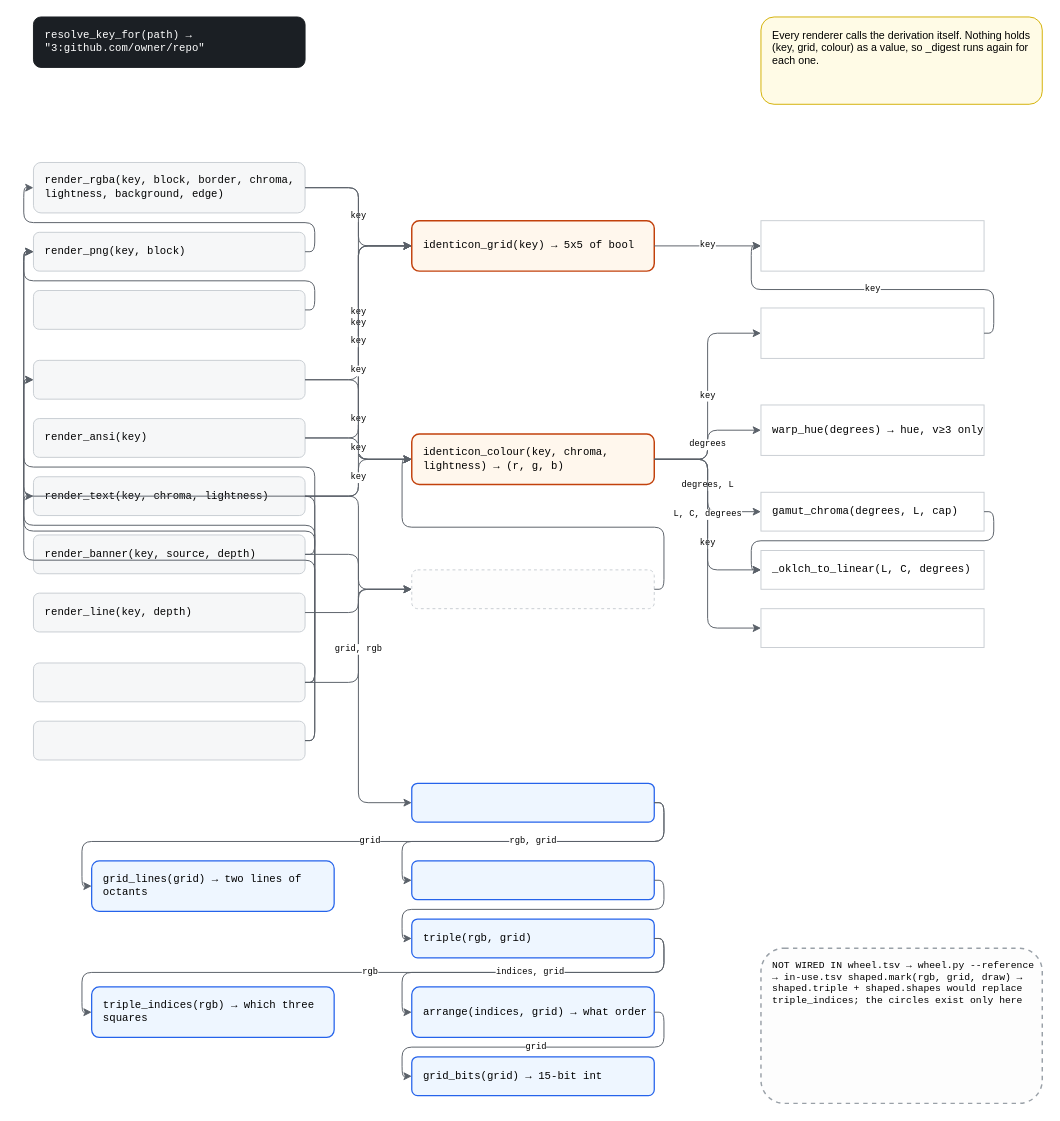
Image size: 1060x1121. Some labels were removed from this diagram. The centre of each missing label's shape, as x and y in pixels:
"_colour_for(key, kwargs)" belongs at (x=532, y=589).
"_digest(key) → 32 hex chars" belongs at (x=872, y=245).
"artifact_bytes(key, block)" belongs at (x=168, y=682).
"emoji_triple(rgb, grid)" belongs at (x=532, y=880).
"identicon_hue(key) → fraction of a turn" belongs at (x=872, y=332).
"install_icon(key, root, sizes)" belongs at (x=168, y=740).
"parse_key(key) → version, seed" belongs at (x=872, y=627).
"render_inline(key, protocol, size)" belongs at (x=168, y=309).
"render_svg(key, block, border, ...)" belongs at (x=168, y=379).
"text(grid, rgb)" belongs at (x=532, y=802).
